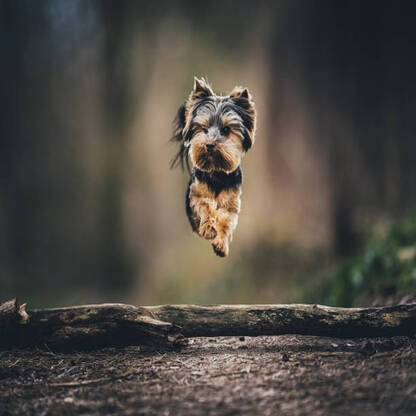yorkshire: (172, 74, 257, 262)
